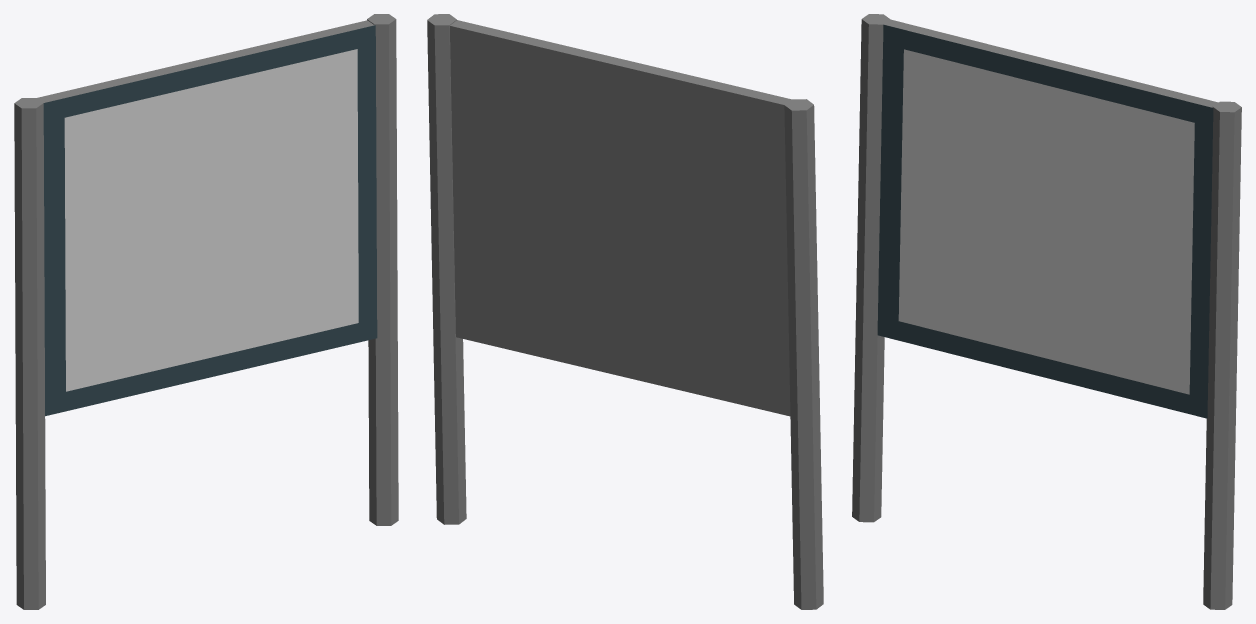
File: billboard.glb
The picture shows the model from 3 angles, left to right: view 1: azimuth 30°, elevation 25°; view 2: azimuth 150°, elevation 25°; view 3: azimuth 330°, elevation 25°; orthographic projection.
Parts seen in each view (by area): view 1: node_MeshObject-1813780928-PolyPaper22; view 2: node_MeshObject-1813780928-PolyPaper22; view 3: node_MeshObject-1813780928-PolyPaper22.
Part boxes in pixels (<box>): node_MeshObject-1813780928-PolyPaper22: <box>14,14,398,609</box>; node_MeshObject-1813780928-PolyPaper22: <box>427,14,823,609</box>; node_MeshObject-1813780928-PolyPaper22: <box>852,14,1241,609</box>.
Size of the model in its own units: 1.34 by 1.69 by 0.1266.
